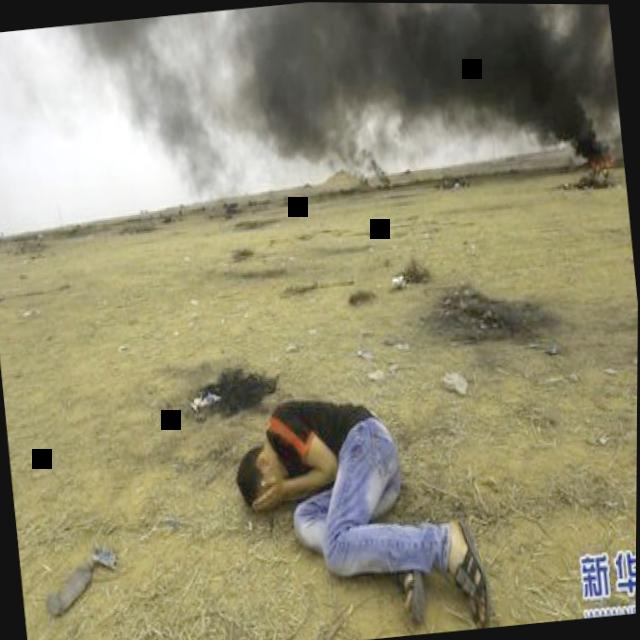Fall-Detected: (209, 364, 500, 640)
